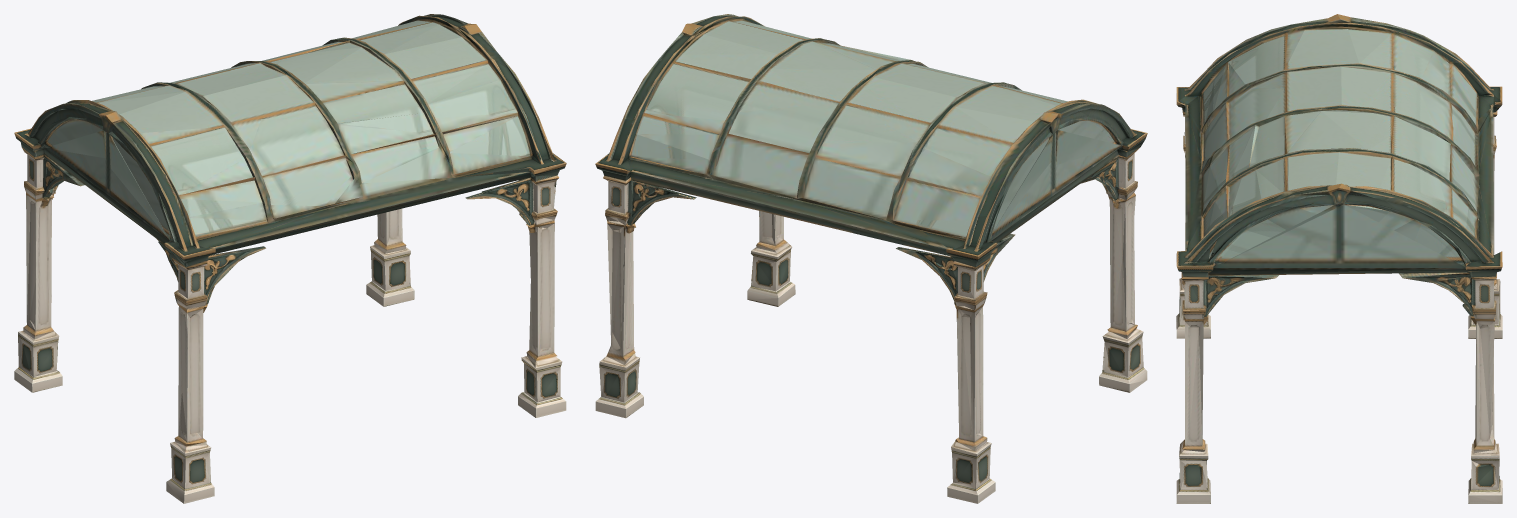
File: item05.glb
The picture shows the model from 3 angles, left to right: view 1: azimuth 30°, elevation 25°; view 2: azimuth 150°, elevation 25°; view 3: azimuth 270°, elevation 25°; orthographic projection. The views are drawn at different scales.
Parts seen in each view (by area): view 1: output_unwrapped; view 2: output_unwrapped; view 3: output_unwrapped.
Part boxes in pixels (x1,y1,x2,y2): output_unwrapped: [14, 14, 566, 503]; output_unwrapped: [595, 14, 1147, 503]; output_unwrapped: [1176, 14, 1502, 503].
Size of the model in its own units: 1 by 0.8118 by 0.7661.
1 material, 1 textured.
